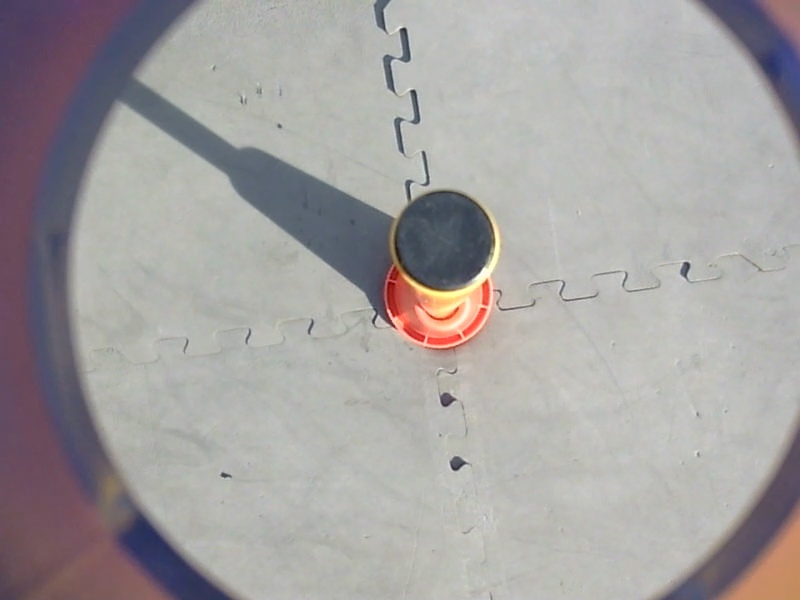tip: (382, 182, 506, 303)
